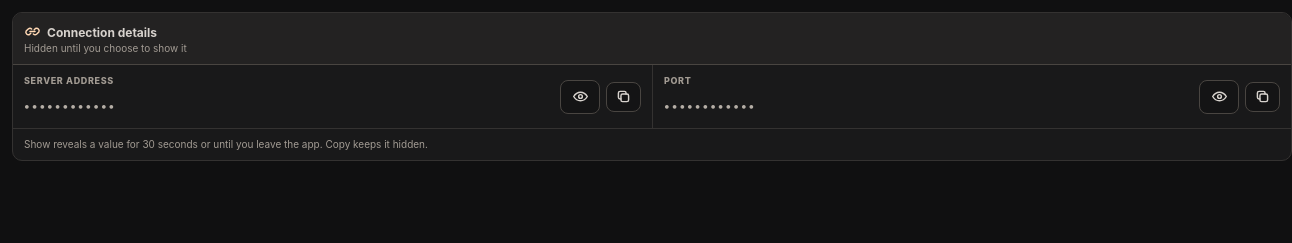
Scenario: separate game address and port › copies hidden address and port independently, without rendering either secret
Click the button named "Copy Server address".
click(624, 97)  # box top-left (606, 82), bottom-right (641, 112)
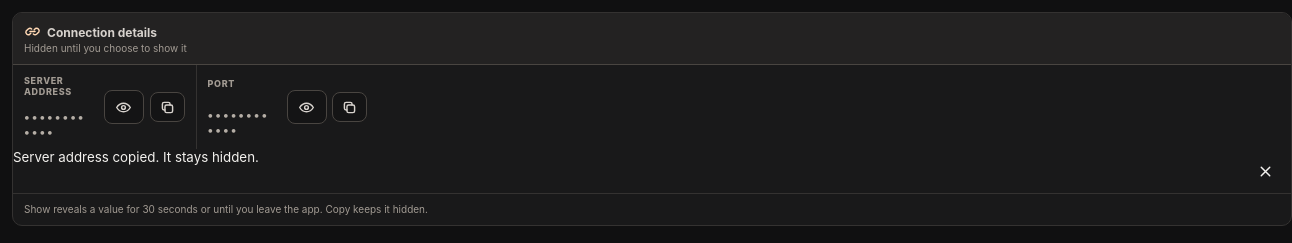
Check: the message shows "Server address copied", box top-left (13, 149), bottom-right (259, 165)
Click the button named "Copy Port".
click(350, 107)  # box top-left (332, 92), bottom-right (367, 122)
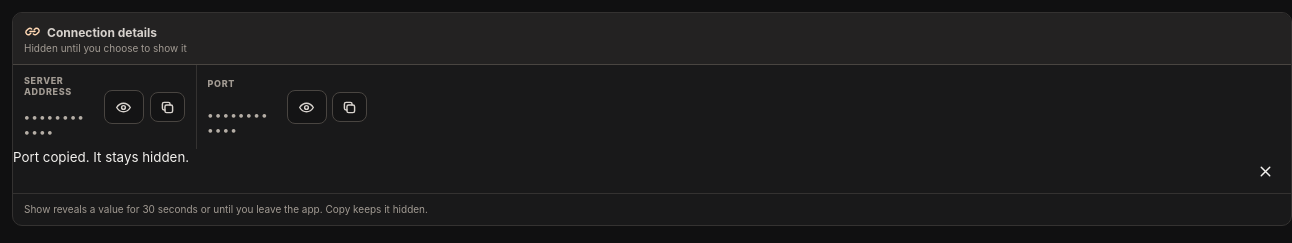
Check: the message shows "Port copied", box top-left (13, 149), bottom-right (189, 165)
